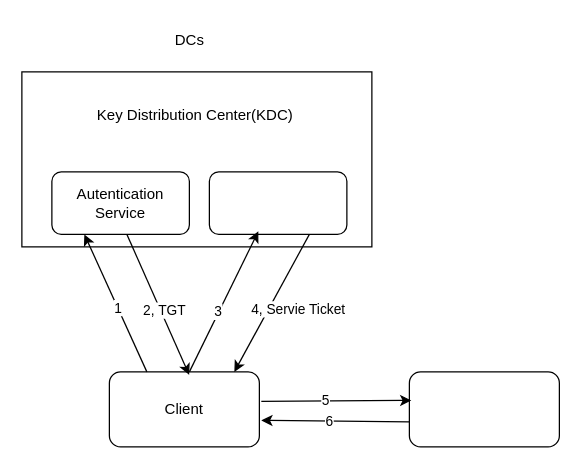
Image size: 581x469. Some labels were removed from this diagram. The centre of each missing label's shape, as x and y in pixels:
"Server HTTP Service" goes at (x=483, y=409).
"Ticket Granting Service" goes at (x=277, y=202).
